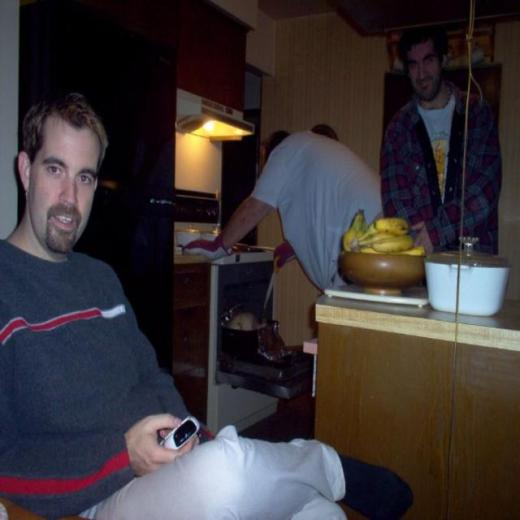Banana: (349, 212, 429, 278)
